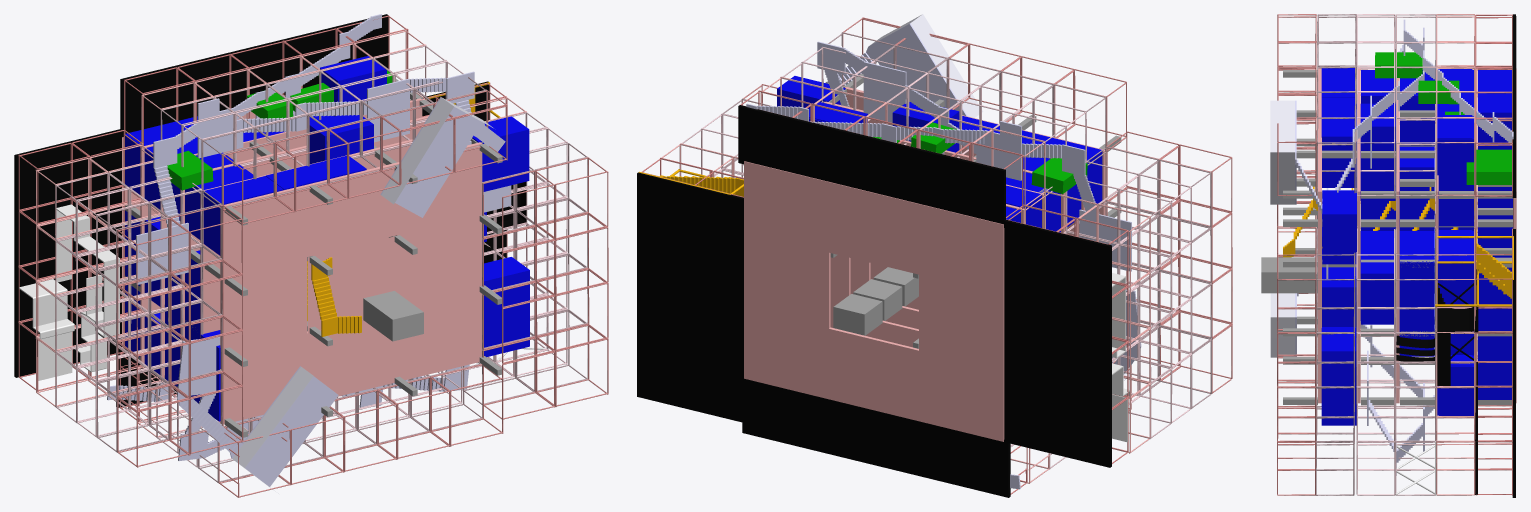
The picture shows the model from 3 angles, left to right: view 1: azimuth 30°, elevation 25°; view 2: azimuth 150°, elevation 25°; view 3: azimuth 270°, elevation 25°; orthographic projection. The views are drawn at different scales.
Visible parts, largest first — view 1: walls 2 (×5), stairs (×6), walls 3, walls (×5), floor 5 (×2), floor 4 (×2), floor 3 (×2), floor 2 (×3), benches module (×3), Floor G, floor 1 (×2), deployable model 3 (+5 smaller); view 2: walls 3, walls 2 (×4), stairs (×6), walls (×4), floor 5 (×2), floor 4 (×2), floor 3 (×2), floor 2 (×3), floor 1 (×2), lift (×3), Floor G, benches module (×2) (+3 smaller); view 3: walls (×5), columns (×6), stairs (×6), floor 5 (×2), walls 2 (×5), floor 2 (×3), deployable model 3, floor 3 (×2), floor 4 (×2), green pots (×3), OAT module (×3), floor 1 (×2) (+5 smaller).
Part boxes in pixels (bbox=[...]): walls 2 (×5): bbox=[122, 98, 482, 424]; stairs (×6): bbox=[107, 14, 511, 486]; walls 3: bbox=[14, 14, 489, 407]; walls (×5): bbox=[125, 56, 529, 421]; floor 5 (×2): bbox=[117, 90, 608, 497]; floor 4 (×2): bbox=[96, 77, 588, 482]; floor 3 (×2): bbox=[76, 61, 567, 467]; floor 2 (×3): bbox=[55, 45, 547, 453]; benches module (×3): bbox=[19, 204, 546, 380]; Floor G: bbox=[18, 15, 506, 421]; floor 1 (×2): bbox=[35, 30, 526, 437]; deployable model 3: bbox=[232, 97, 493, 493]; walls 3: bbox=[637, 105, 1111, 497]; walls 2 (×4): bbox=[744, 87, 1105, 441]; stairs (×6): bbox=[746, 23, 1141, 489]; walls (×4): bbox=[777, 76, 1102, 232]; floor 5 (×2): bbox=[742, 17, 1232, 411]; floor 4 (×2): bbox=[722, 32, 1211, 408]; floor 3 (×2): bbox=[702, 47, 1191, 423]; floor 2 (×3): bbox=[681, 61, 1172, 469]; floor 1 (×2): bbox=[661, 76, 1150, 483]; lift (×3): bbox=[833, 267, 918, 335]; Floor G: bbox=[641, 90, 1128, 494]; benches module (×2): bbox=[1112, 273, 1129, 442]; walls (×5): bbox=[1321, 68, 1512, 425]; columns (×6): bbox=[1283, 70, 1512, 405]; stairs (×6): bbox=[1295, 19, 1513, 475]; floor 5 (×2): bbox=[1277, 14, 1316, 495]; walls 2 (×5): bbox=[1318, 68, 1516, 403]; floor 2 (×3): bbox=[1395, 14, 1436, 495]; deployable model 3: bbox=[1270, 100, 1294, 357]; floor 3 (×2): bbox=[1356, 14, 1395, 495]; floor 4 (×2): bbox=[1316, 14, 1356, 495]; green pots (×3): bbox=[1375, 52, 1511, 184]; OAT module (×3): bbox=[1396, 269, 1478, 494]; floor 1 (×2): bbox=[1436, 14, 1475, 495].
Size of the model in its own units: 45.61 by 32.88 by 21.88.
